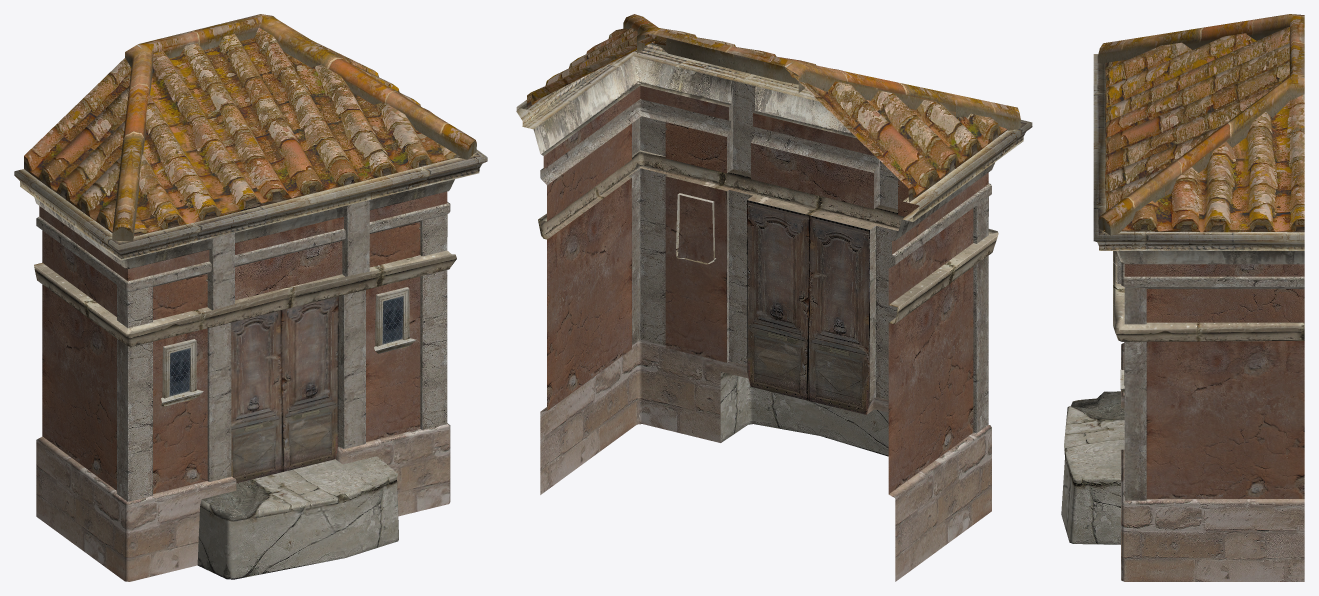
The model's file is Basic12.fbx.
3 renders of one model, left to right at view 1: azimuth 30°, elevation 25°; view 2: azimuth 150°, elevation 25°; view 3: azimuth 270°, elevation 25°, orthographic. The views are drawn at different scales.
Visible parts, largest first — view 1: LV_Campagna_City_CommonDoor02A_SM_CNH; view 2: LV_Campagna_City_CommonDoor02A_SM_CNH; view 3: LV_Campagna_City_CommonDoor02A_SM_CNH.
Part boxes in pixels (x1,y1,x2,y2): LV_Campagna_City_CommonDoor02A_SM_CNH: (14,14,487,581); LV_Campagna_City_CommonDoor02A_SM_CNH: (516,14,1032,581); LV_Campagna_City_CommonDoor02A_SM_CNH: (1061,14,1304,581).
Size of the model in its own units: 1.18 by 1.37 by 0.6632.
